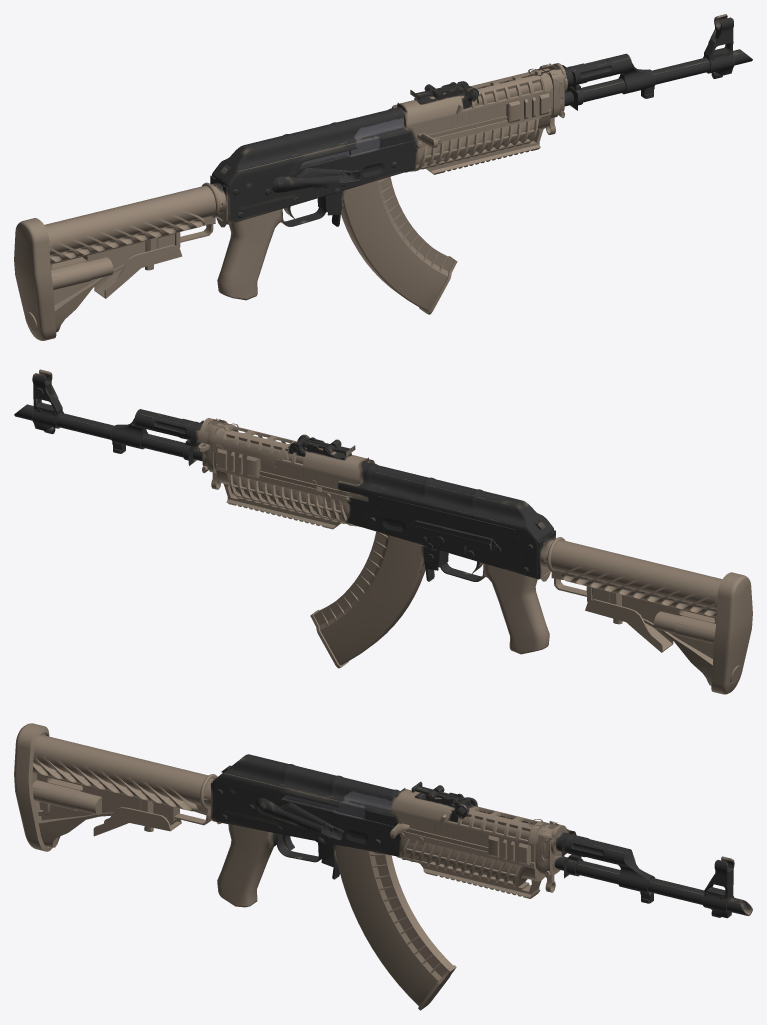
Rendered from akm.glb.
3 renders of one model, top to bottom at view 1: azimuth 30°, elevation 25°; view 2: azimuth 150°, elevation 25°; view 3: azimuth 330°, elevation 25°, orthographic.
Parts seen in each view (by area): view 1: rif_akm_badlanders; view 2: rif_akm_badlanders; view 3: rif_akm_badlanders.
Part boxes in pixels (x1,y1,x2,y2): rif_akm_badlanders: (14,14,752,340); rif_akm_badlanders: (14,369,752,694); rif_akm_badlanders: (14,723,752,1010).
Bounding box in the file's own units: 78.61 × 22.92 × 6.77.
Materials: 1 (1 with a texture image).
